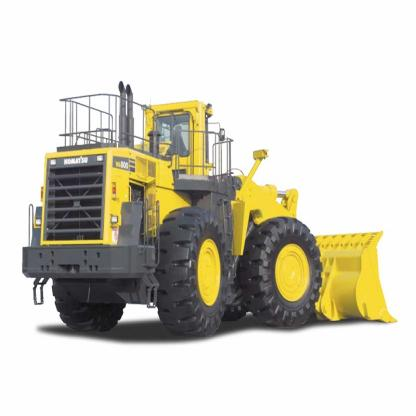bull_dozer/loader/grader: (20, 81, 406, 343)
